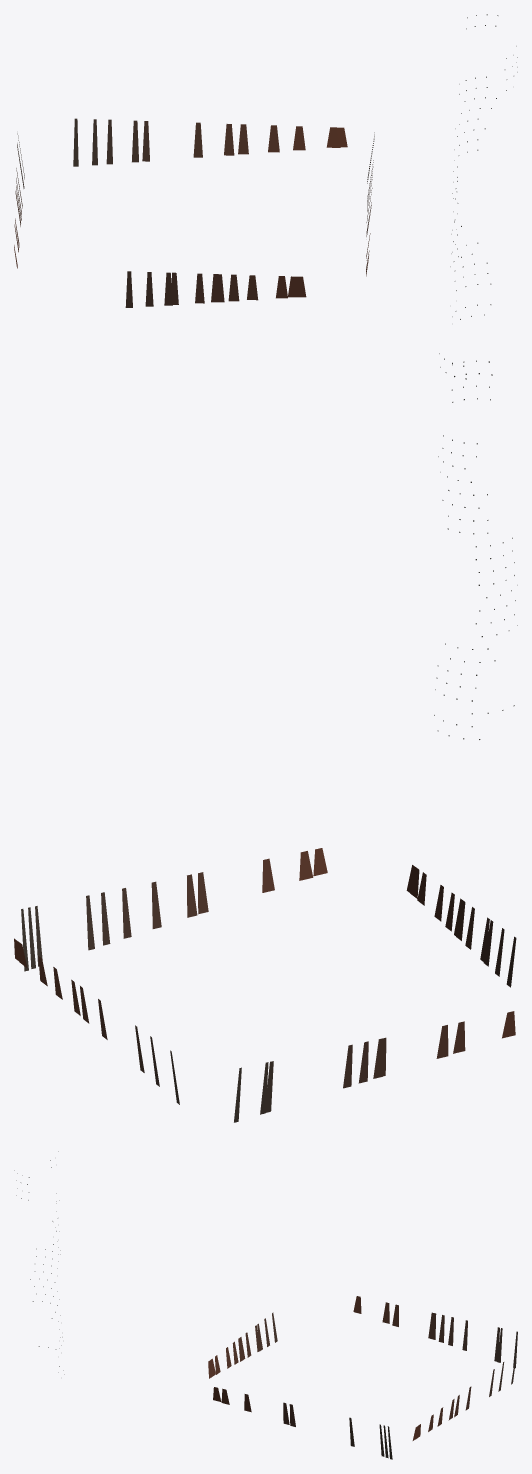
The model's file is landmark_penstock_tower_detail2.glb.
3 views of the same model, one above another, from view 1: azimuth 30°, elevation 25°; view 2: azimuth 150°, elevation 25°; view 3: azimuth 270°, elevation 25° (orthographic). The views are drawn at different scales.
Visible parts, largest first — view 1: landmark_penstock_tower_detail2; view 2: landmark_penstock_tower_detail2; view 3: landmark_penstock_tower_detail2.
Boxes of the visible parts, left/top/right/bottom form: landmark_penstock_tower_detail2: left=14, top=14, right=517, bottom=319; landmark_penstock_tower_detail2: left=14, top=353, right=517, bottom=1122; landmark_penstock_tower_detail2: left=14, top=1151, right=517, bottom=1459.
Bounding box in the file's own units: 104 × 93.39 × 163.
